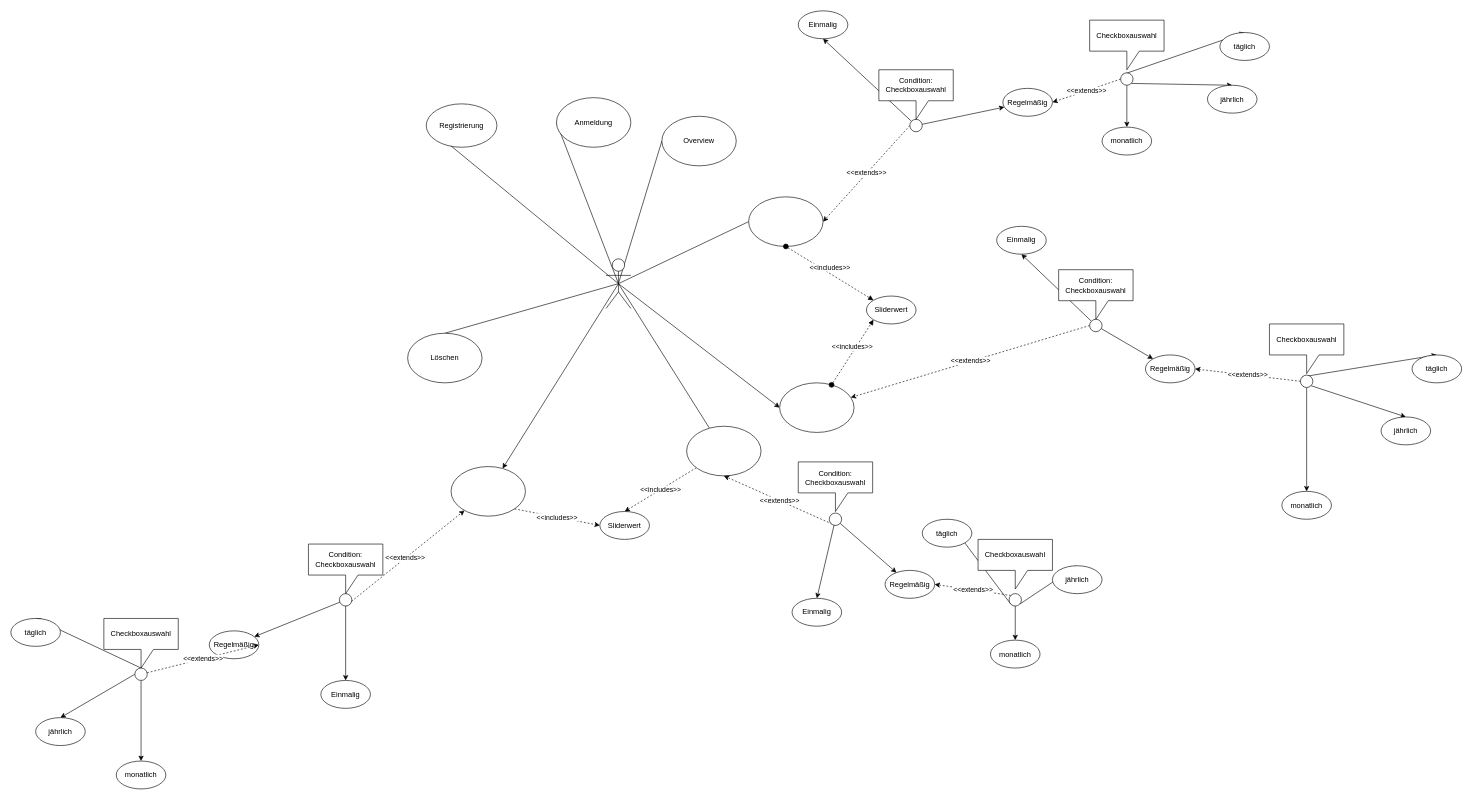
Some shapes in this 1473 by 800 pixel diagram are drawn without their labels. The shapes that lost their labels are listed below. From the top down, each one's centre as x and y in pixels, then its label:
the point at 785,221: Neue Einnahme
the point at 618,283: Actor
the point at 816,407: Neue Ausgabe
the point at 723,451: Eingabe bearbeiten
the point at 487,491: Ausgabe bearbeiten
